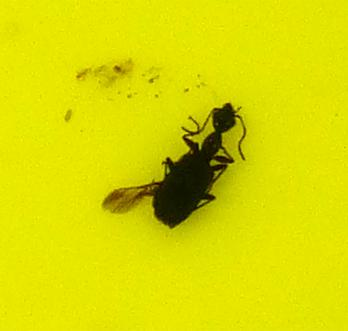Coleoptera: (100, 100, 248, 231)
